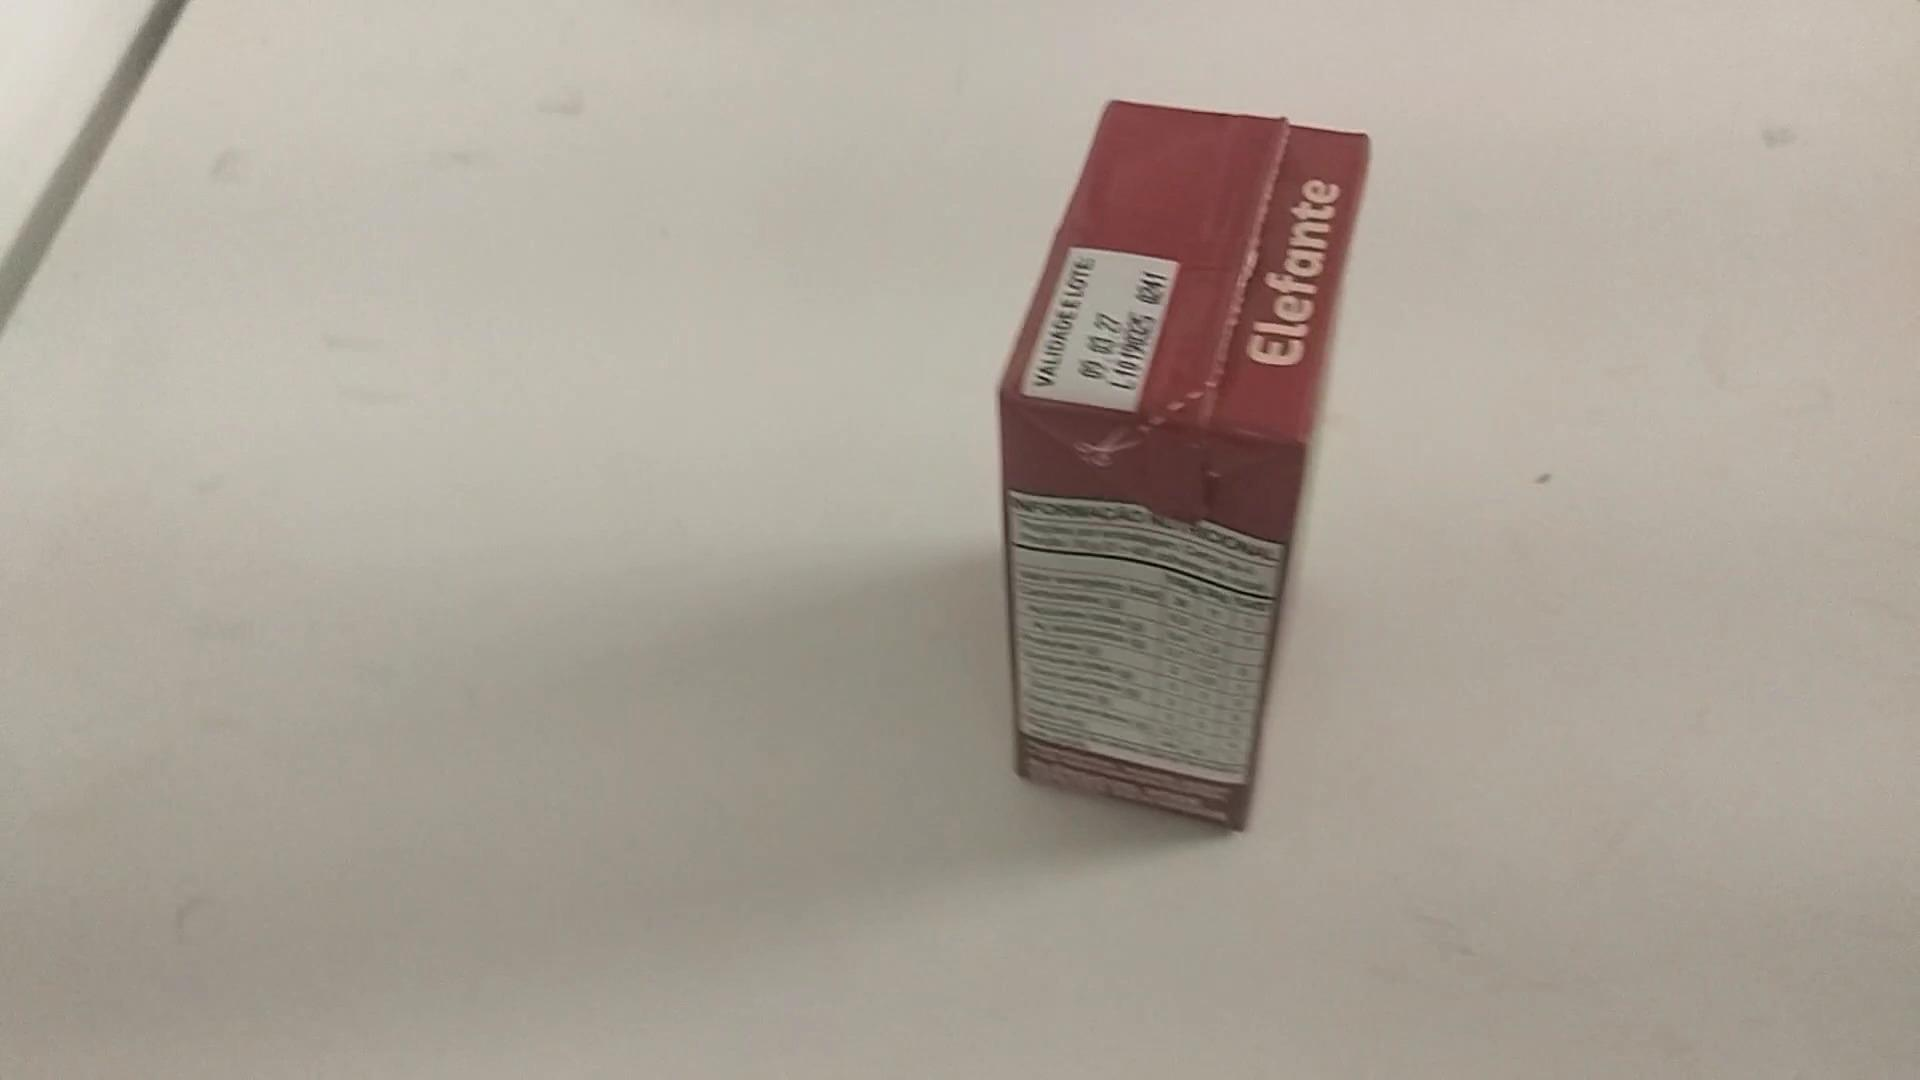tomate: (982, 80, 1375, 839)
